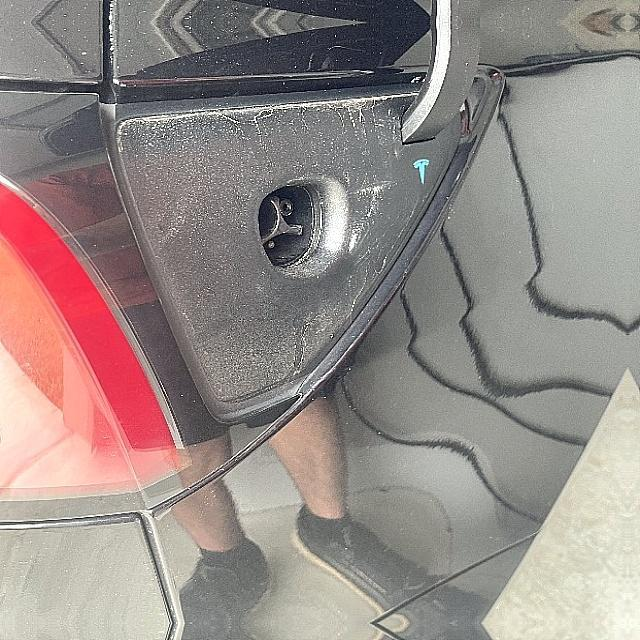Tesla Model-S-: (248, 164, 362, 294)
